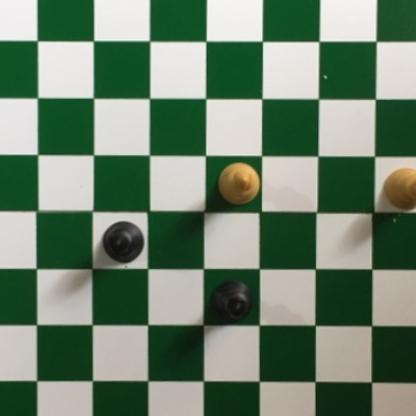black-bishop: (101, 219, 146, 267), (207, 279, 253, 323)
white-bishop: (216, 161, 261, 206), (381, 166, 416, 213)
